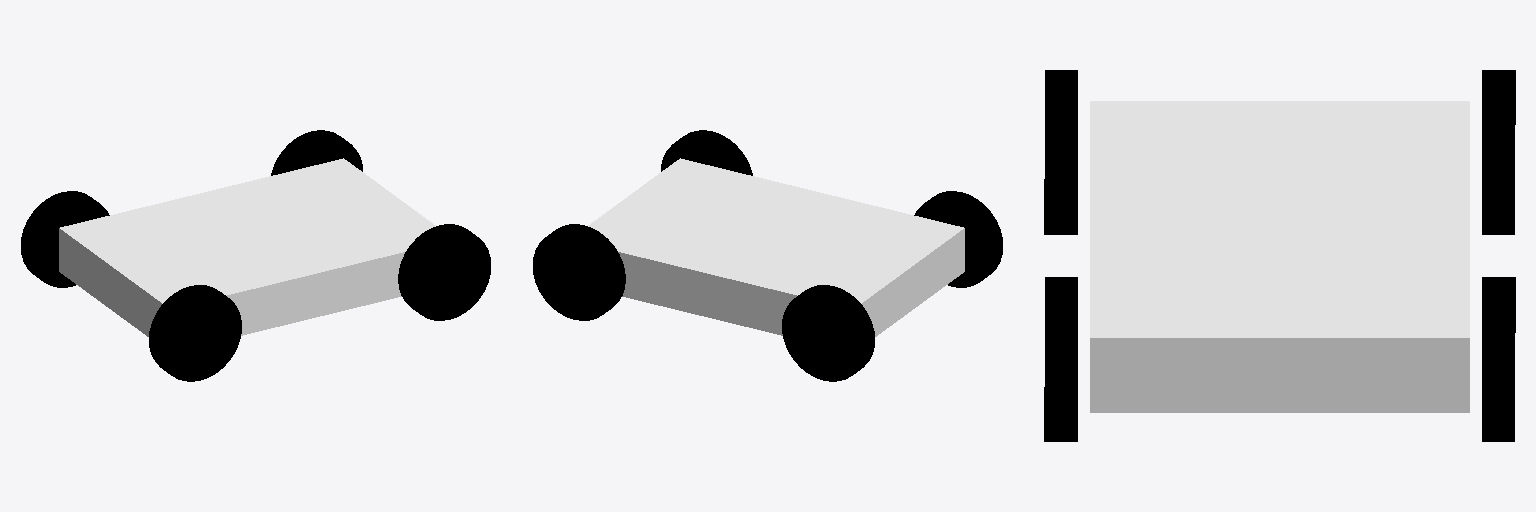
URDF robot description (diode_robot):
<?xml version="1.0" ?>
<robot name="diode_robot">

    <link name="base_link">
        <visual>
            <origin xyz=" 0.30 0 0.10" rpy="0 0 0" />
            <geometry>
                <box size="0.68 0.46 0.10"/>
            </geometry>
            <material name="white">
                <color rgba="255 255 255 1"/>
            </material>
        </visual>
    </link>   

    <joint name="left_wheel_joint" type="continuous">
        <origin xyz="0 0.265 0.10" rpy="1.57 0 0"/>
        <parent link="base_link"/>
        <child link="left_wheel_link"/>
        <axis xyz="0 1 0"/>
    </joint>

    <link name="left_wheel_link">
        <visual>
            <origin xyz="0 0 0" rpy="0 0 0" />
            <geometry>
                <cylinder radius="0.10" length = "0.04"/>
            </geometry>
            <material name="black">
                <color rgba="0 0 0 1"/>
            </material>
        </visual>
    </link>

    <joint name="right_wheel_joint" type="continuous">
        <origin xyz="0 -0.265 0.10" rpy="1.57 0 0"/>
        <parent link="base_link"/>
        <child link="right_wheel_link"/>
        <axis xyz="0 1 0"/>
    </joint>

    <link name="right_wheel_link">
        <visual>
            <origin xyz="0 0 0" rpy="0 0 0" />
            <geometry>
                <cylinder radius="0.10" length = "0.04"/>
            </geometry>
            <material name="black">
                <color rgba="0 0 0 1"/>
            </material>
        </visual>
    </link>

      <joint name="left_front_joint" type="continuous">
        <origin xyz="0.595 0.265 0.10" rpy="1.57 0 0"/>
        <parent link="base_link"/>
        <child link="left_front_link"/>
        <axis xyz="0 1 0"/>
    </joint>

    <link name="left_front_link">
        <visual>
            <origin xyz="0 0 0" rpy="0 0 0" />
            <geometry>
                <cylinder radius="0.10" length = "0.04"/>
            </geometry>
            <material name="black">
                <color rgba="0 0 0 1"/>
            </material>
        </visual>
    </link>

    <joint name="right_front_joint" type="continuous">
        <origin xyz="0.595 -0.265 0.10" rpy="1.57 0 0"/>
        <parent link="base_link"/>
        <child link="right_front_link"/>
        <axis xyz="0 1 0"/>
    </joint>

    <link name="right_front_link">
        <visual>
            <origin xyz="0 0 0" rpy="0 0 0" />
            <geometry>
                <cylinder radius="0.10" length = "0.04"/>
            </geometry>
            <material name="black">
                <color rgba="0 0 0 1"/>
            </material>
        </visual>
    </link>


</robot>

--- Render facts (derived) ---
Views: 3 orthographic renders of the robot side by side, from view 1: azimuth 30°, elevation 25°; view 2: azimuth 150°, elevation 25°; view 3: azimuth 270°, elevation 25°.
Model diode_robot with 5 links and 4 joints (4 continuous), rooted at base_link, posed all joints at 0.
Links seen in each view (by area): view 1: base_link, right_wheel_link, right_front_link, left_wheel_link, left_front_link; view 2: base_link, left_wheel_link, left_front_link, right_wheel_link, right_front_link; view 3: base_link, right_wheel_link, left_front_link, left_wheel_link, right_front_link.
Boxes of the visible links, box(x1,y1,x2,y2) form: base_link: box(59, 158, 435, 336); right_wheel_link: box(149, 285, 241, 381); right_front_link: box(398, 224, 490, 320); left_wheel_link: box(21, 191, 109, 287); left_front_link: box(271, 130, 362, 175); base_link: box(588, 158, 964, 336); left_wheel_link: box(782, 285, 874, 381); left_front_link: box(533, 224, 625, 320); right_wheel_link: box(914, 191, 1002, 287); right_front_link: box(661, 130, 752, 175); base_link: box(1090, 101, 1469, 412); right_wheel_link: box(1044, 70, 1077, 234); left_front_link: box(1482, 277, 1515, 441); left_wheel_link: box(1482, 70, 1515, 234); right_front_link: box(1044, 277, 1077, 441).
Size in the robot's own frame: 0.795 by 0.5702 by 0.2 metres.
Geometry: primitives only (box / cylinder / sphere), no mesh files.